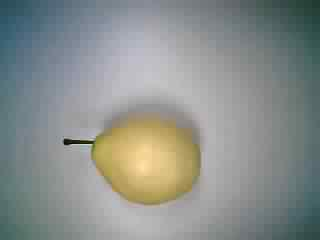pear: (58, 104, 222, 209)
